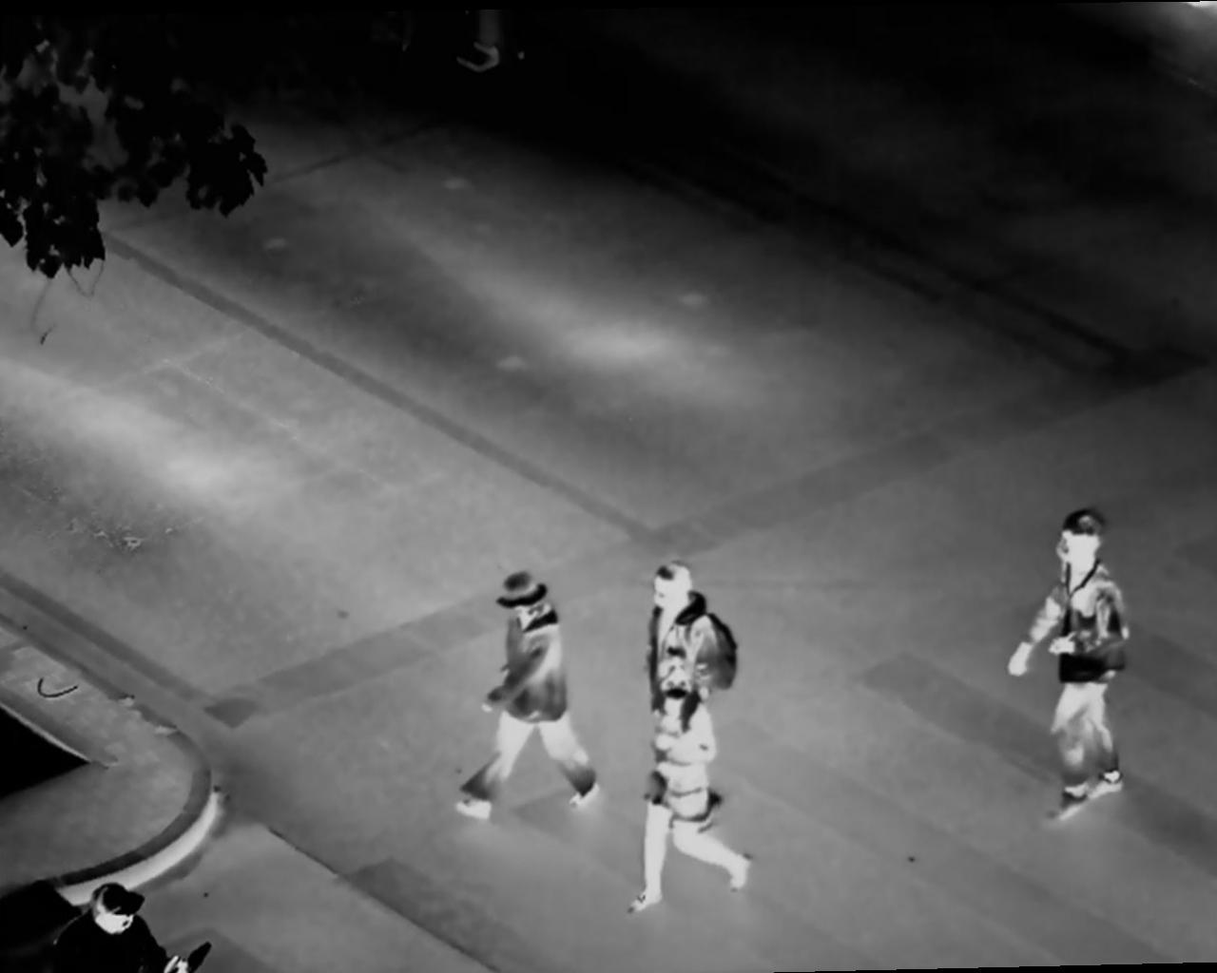person: (441, 564, 608, 830), (1016, 512, 1153, 805), (651, 658, 758, 912), (634, 551, 742, 711), (38, 882, 165, 973)
